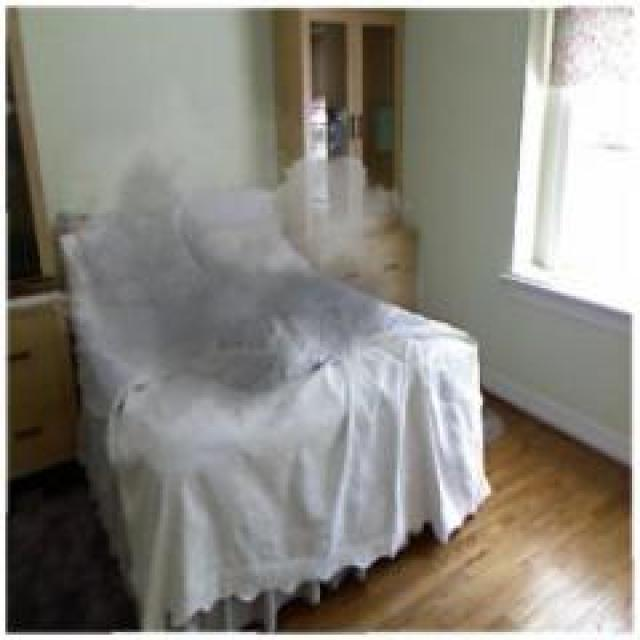Smoke: (60, 140, 415, 407)
